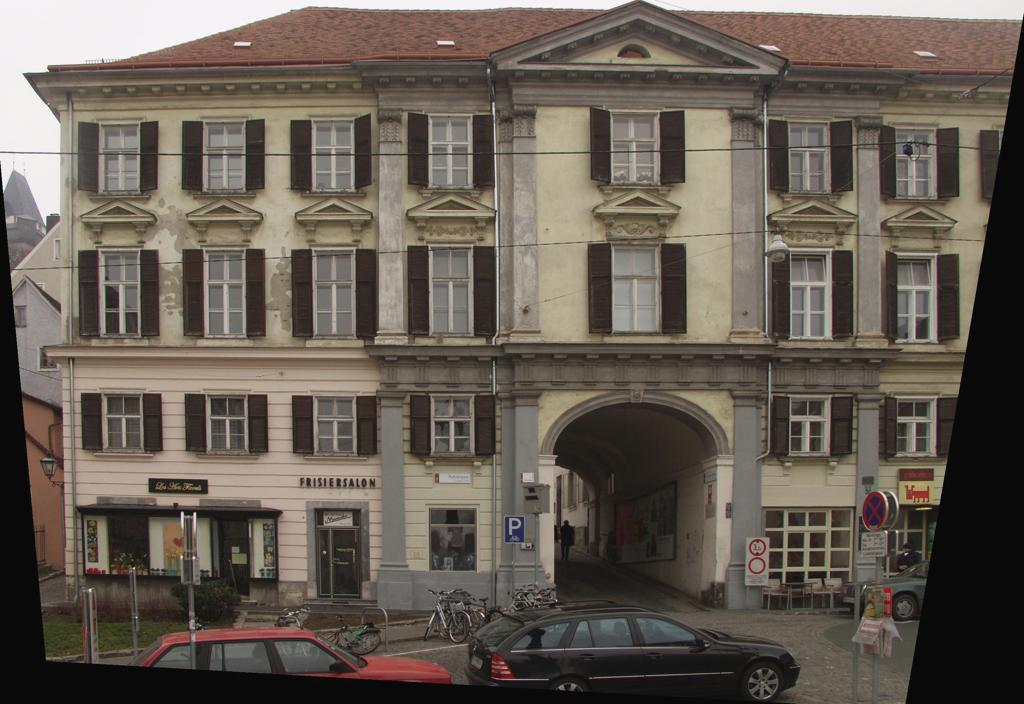window: (763, 506, 857, 591), (612, 243, 663, 334), (430, 242, 475, 337), (99, 248, 141, 338), (204, 247, 246, 337), (314, 248, 356, 338), (792, 249, 833, 339), (896, 253, 937, 343), (611, 109, 660, 184), (98, 121, 142, 196), (204, 118, 248, 193), (313, 117, 357, 192), (429, 113, 473, 188), (787, 119, 831, 194), (895, 126, 939, 200), (313, 394, 357, 457), (789, 393, 833, 456), (103, 391, 146, 455), (206, 392, 249, 456), (432, 392, 475, 456), (895, 395, 938, 458)
